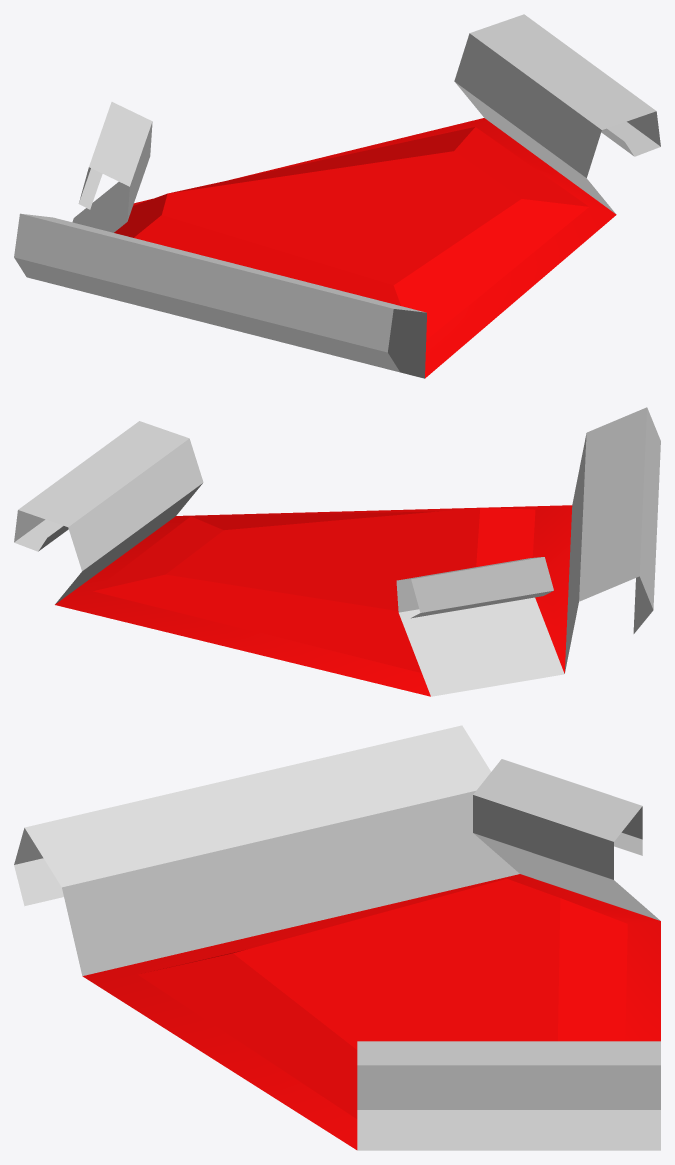
Rendered from terrain_split_v2.FBX.
3 views of the same model, one above another, from view 1: azimuth 30°, elevation 25°; view 2: azimuth 150°, elevation 25°; view 3: azimuth 270°, elevation 25° (orthographic). The views are drawn at different scales.
Parts seen in each view (by area): view 1: terrain_split_color, terrain_split; view 2: terrain_split_color, terrain_split; view 3: terrain_split, terrain_split_color.
Boxes of the visible parts, <box> form: terrain_split_color: <box>114,118,616,378</box>; terrain_split: <box>14,14,660,378</box>; terrain_split_color: <box>55,505,572,696</box>; terrain_split: <box>14,407,660,696</box>; terrain_split: <box>14,725,660,1150</box>; terrain_split_color: <box>82,874,660,1149</box>.
Bounding box in the file's own units: 10074 × 1828 × 8129.
